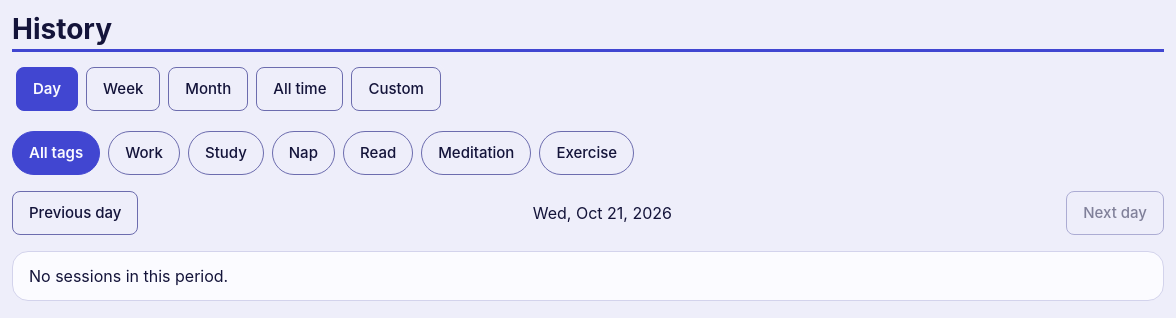
Scenario: HistoryScreen › ac10_1 steps to the previous period and stops Next at the current one
The image size is (1176, 318).
Expected: the text "No sessions in this period." is shown, [29,264,228,288]
Expected: the button "Next day" is disabled, [1066,191,1164,235]
Click the button "Previous day": click(75, 213) [12,191,138,235]
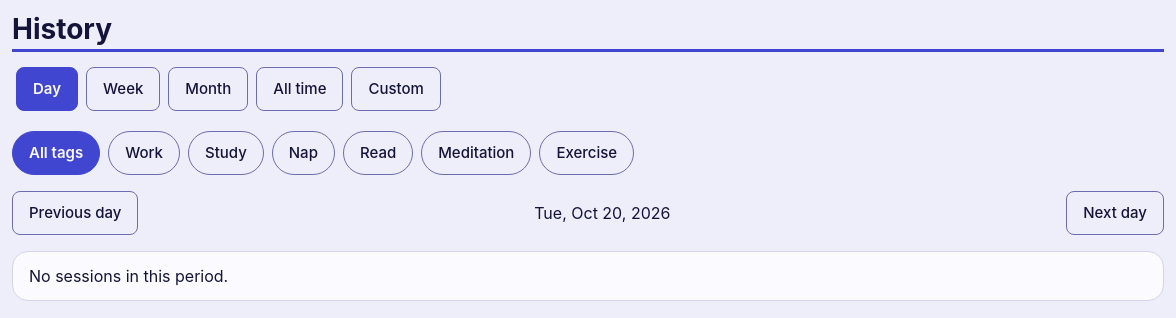
Result: the button "Next day" is enabled at [1066,191,1164,235]
